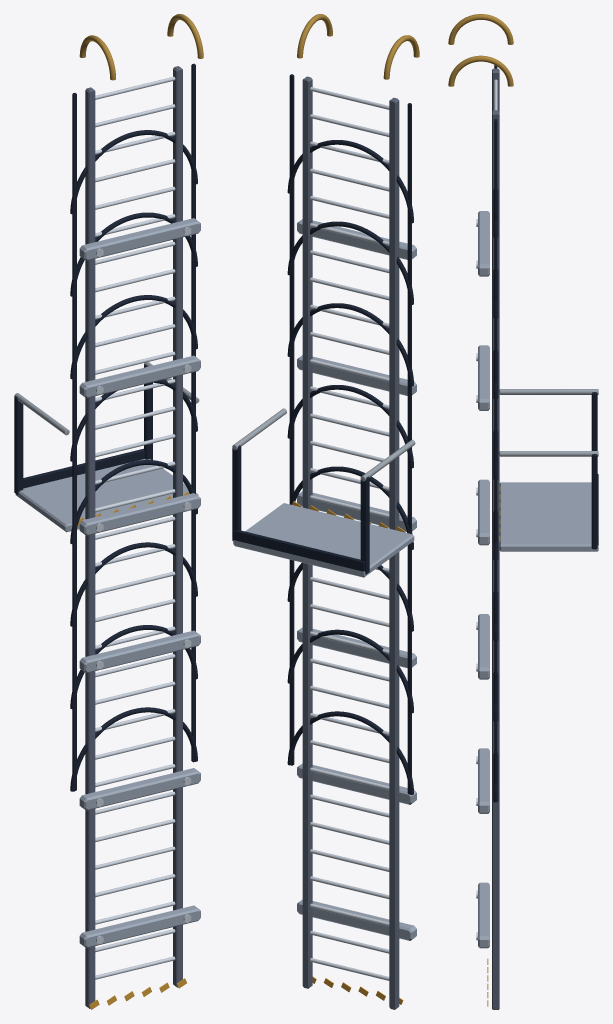
File: shared_ladder_1000.glb
The picture shows the model from 3 angles, left to right: view 1: azimuth 30°, elevation 25°; view 2: azimuth 150°, elevation 25°; view 3: azimuth 270°, elevation 25°; orthographic projection. The views are drawn at different scales.
Visible parts, largest first — view 1: ladder_stringer-1, ladder_stringer1, ladder_landing, ladder_hoop_rail-1, ladder_hoop_rail1, ladder_flange2, ladder_flange0, ladder_flange4, ladder_flange3, ladder_flange5, ladder_flange1, ladder_landing_kick (+12 smaller); view 2: ladder_stringer-1, ladder_stringer1, ladder_landing, ladder_hoop_rail1, ladder_hoop_rail-1, ladder_landing_kick, ladder_flange0, ladder_flange1, ladder_flange4, ladder_flange5, ladder_flange2, ladder_flange3 (+12 smaller); view 3: ladder_landing, ladder_stringer1, ladder_hoop_rail1, ladder_flange0, ladder_flange3, ladder_flange2, ladder_flange4, ladder_flange1, ladder_flange5, ladder_landing_post1, ladder_hook1, ladder_hook-1 (+3 smaller).
Boxes of the visible parts, x1,y1,x2,y2 form: ladder_stringer-1: (85,87,95,1008); ladder_stringer1: (173,66,182,987); ladder_landing: (15,459,198,532); ladder_hoop_rail-1: (72,93,76,790); ladder_hoop_rail1: (191,63,195,762); ladder_flange2: (79,630,200,673); ladder_flange0: (79,905,200,948); ladder_flange4: (79,355,200,398); ladder_flange3: (79,493,200,535); ladder_flange5: (79,218,200,260); ladder_flange1: (79,768,200,810); ladder_landing_kick: (23,448,144,488); ladder_stringer-1: (389,97,399,1009); ladder_stringer1: (302,76,312,988); ladder_landing: (233,503,414,577); ladder_hoop_rail1: (289,74,294,765); ladder_hoop_rail-1: (407,103,411,793); ladder_landing_kick: (233,530,364,571); ladder_flange0: (297,899,416,940); ladder_flange1: (297,763,416,804); ladder_flange4: (297,355,416,395); ladder_flange5: (297,219,416,259); ladder_flange2: (297,627,416,668); ladder_flange3: (297,491,416,531); ladder_landing: (499,482,598,551); ladder_stringer1: (492,110,499,1009); ladder_hoop_rail1: (494,119,497,785); ladder_flange0: (478,882,489,948); ladder_flange3: (478,479,489,545); ladder_flange2: (478,614,489,679); ladder_flange4: (478,345,489,410); ladder_flange1: (478,748,489,813); ladder_flange5: (478,211,489,276); ladder_landing_post1: (591,454,597,549); ladder_hook1: (448,55,513,86); ladder_hook-1: (448,14,513,44).
Size of the model in its own units: 1.56 by 10.64 by 1.52.
